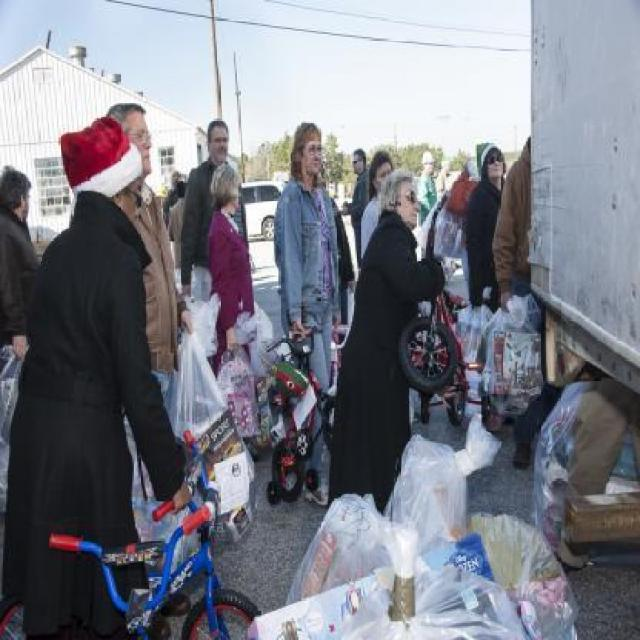plastic bag: (278, 412, 574, 638), (164, 290, 256, 556), (534, 373, 635, 564), (483, 288, 545, 415), (126, 448, 179, 564), (412, 183, 471, 271), (2, 337, 29, 520), (214, 338, 255, 437), (235, 296, 271, 378)
